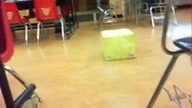cube: (101, 28, 138, 61)
